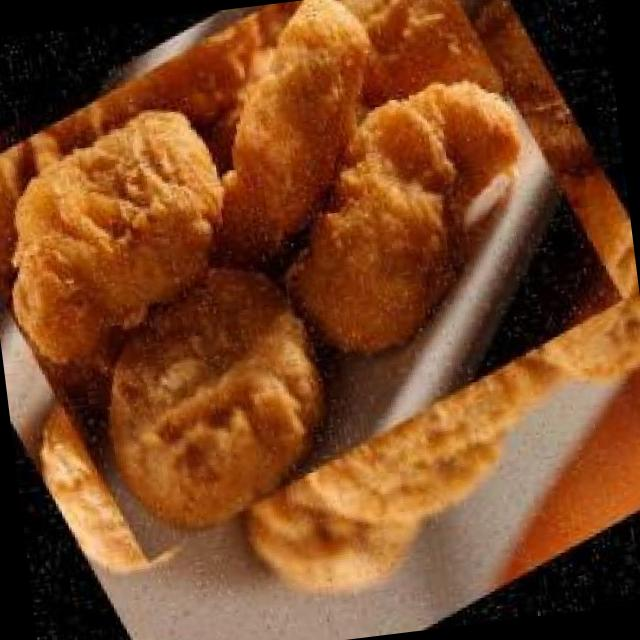chicken_nuggets: (0, 0, 640, 577)
